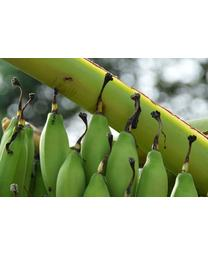banana: (1, 58, 207, 196)
